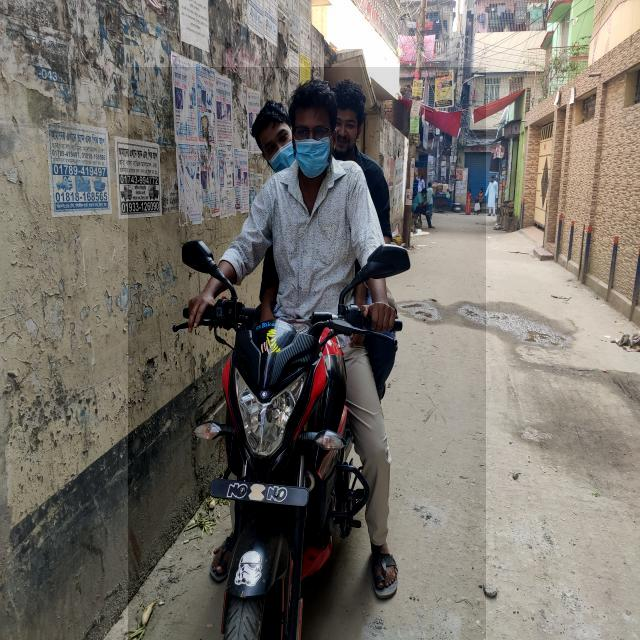Overloading: (128, 67, 486, 640)
